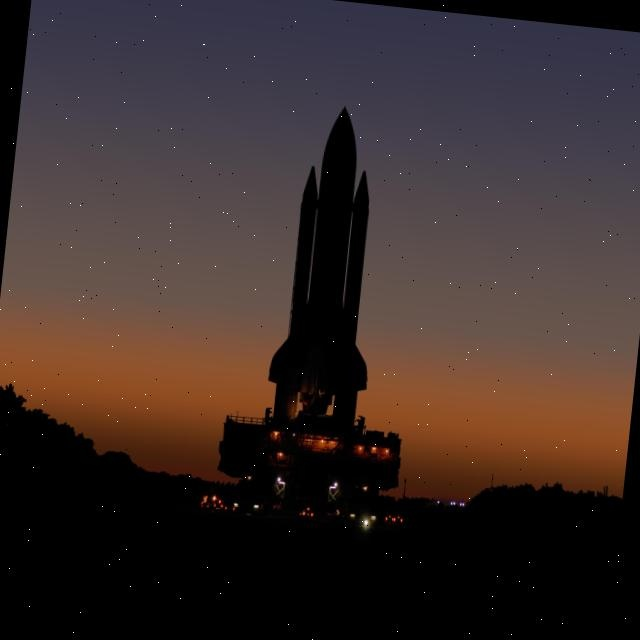rocket: (263, 102, 399, 438)
